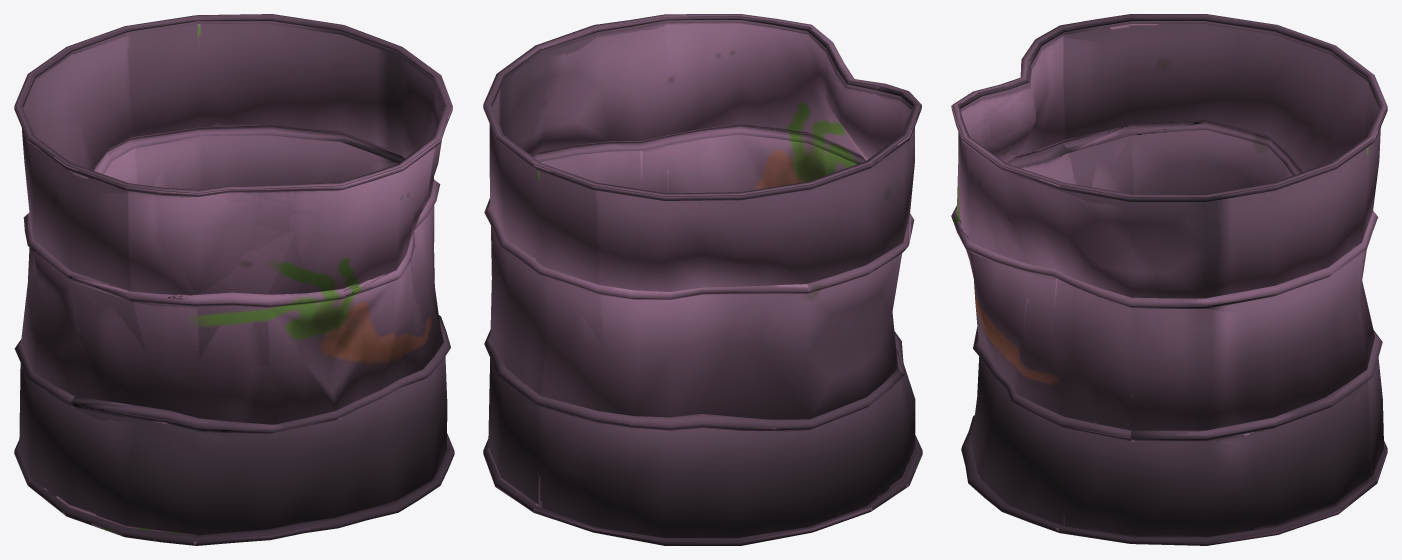
The model's file is bucket-right3.fbx.
3 views of the same model, side by side, from view 1: azimuth 30°, elevation 25°; view 2: azimuth 150°, elevation 25°; view 3: azimuth 270°, elevation 25° (orthographic).
Visible parts, largest first — view 1: bucket-right3; view 2: bucket-right3; view 3: bucket-right3.
Part boxes in pixels (x1=…): bucket-right3: x1=14, y1=14, x2=454, y2=545; bucket-right3: x1=483, y1=14, x2=922, y2=545; bucket-right3: x1=951, y1=14, x2=1387, y2=545.
Size of the model in its own units: 183 by 164 by 185.
